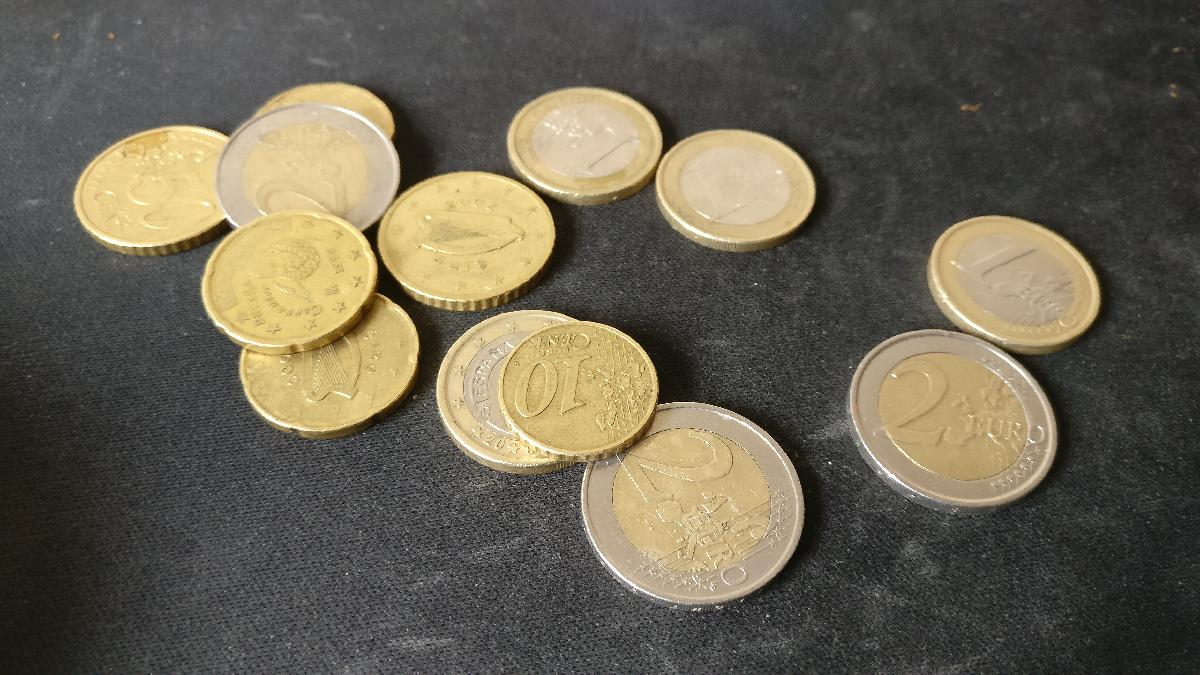Fifty Cent: (380, 166, 560, 308), (70, 122, 237, 250)
One Euro: (925, 215, 1103, 354), (657, 134, 821, 252), (506, 84, 661, 207)
Ten Cent: (506, 323, 661, 454)
Twenty Cent: (228, 290, 424, 432), (199, 215, 380, 353)
Two Euro: (577, 390, 801, 606), (847, 333, 1067, 511), (210, 104, 401, 238)
